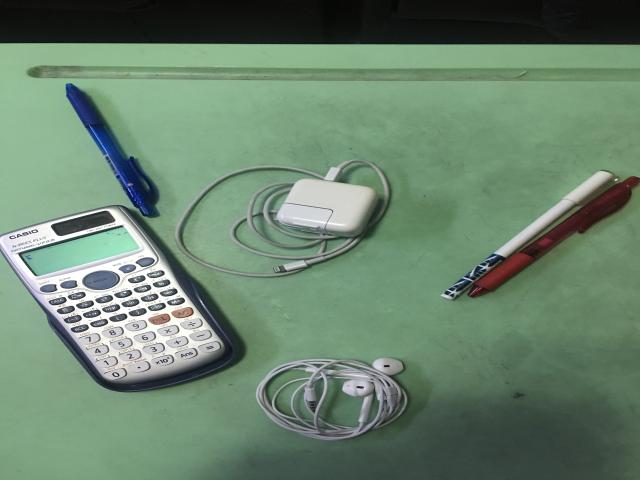Pen: (444, 173, 640, 301), (65, 83, 158, 217)
wire: (175, 159, 390, 278), (257, 358, 407, 441)
